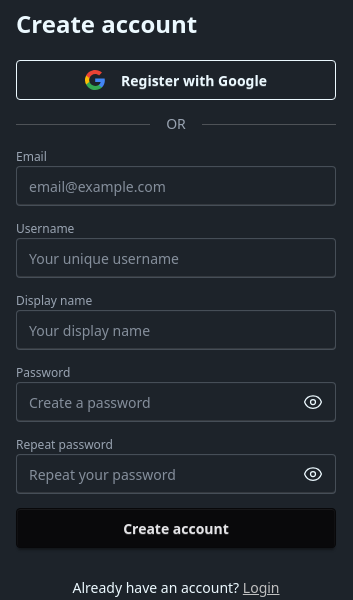
it: RegisterPage › shows password mismatch error
Type "test@example.com" into the field with placeholder "email@example.com" at (176, 186), box [16,166,336,206]
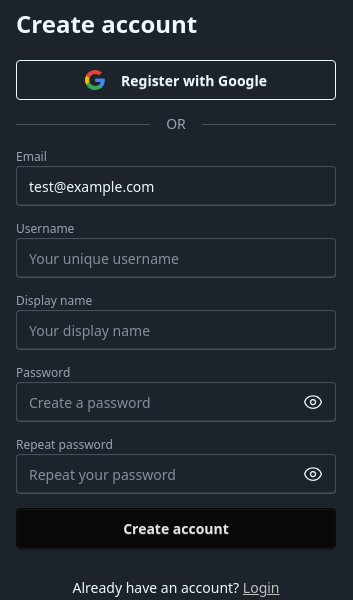
Type "user123" into the field with placeholder "Your unique username" at (176, 258), box [16,238,336,278]
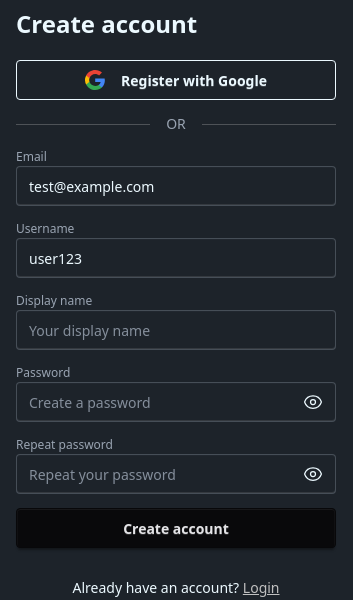
Type "Test User" into the field with placeholder "Your display name" at (176, 330), box [16,310,336,350]
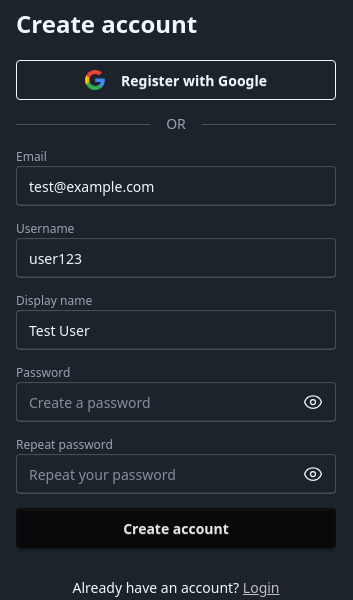
Type "password1" into the password field with placeholder "Create a password" at (176, 402), box [16,382,336,422]
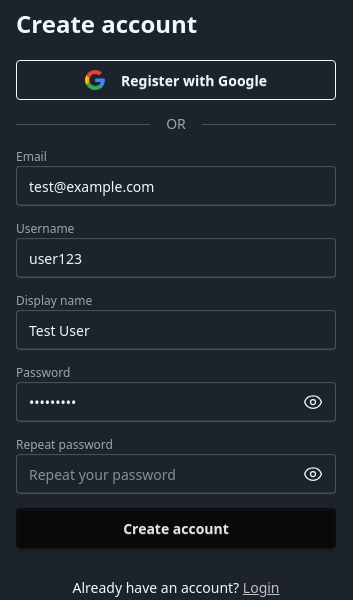
Type "password2" into the password field with placeholder "Repeat your password" at (176, 474), box [16,454,336,494]
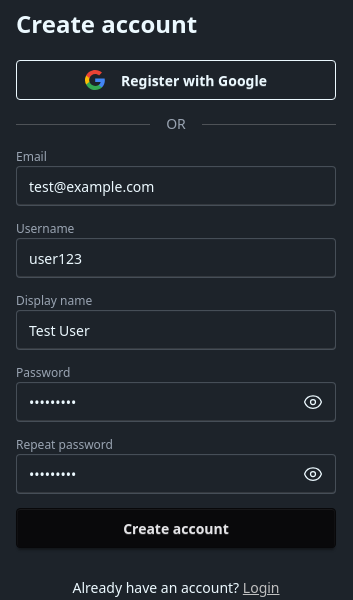
Click the button "Create account" at (176, 528), box [16,508,336,548]
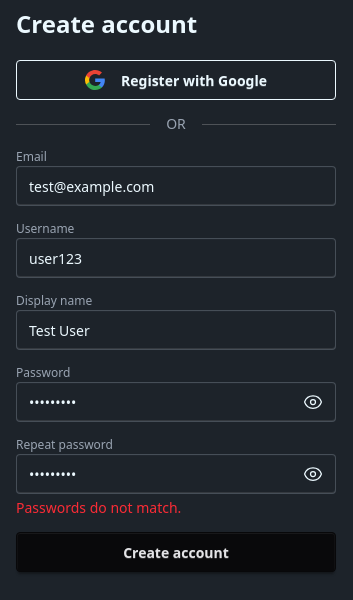
Check: the text "Passwords do not match." is shown, box [16,498,181,517]
